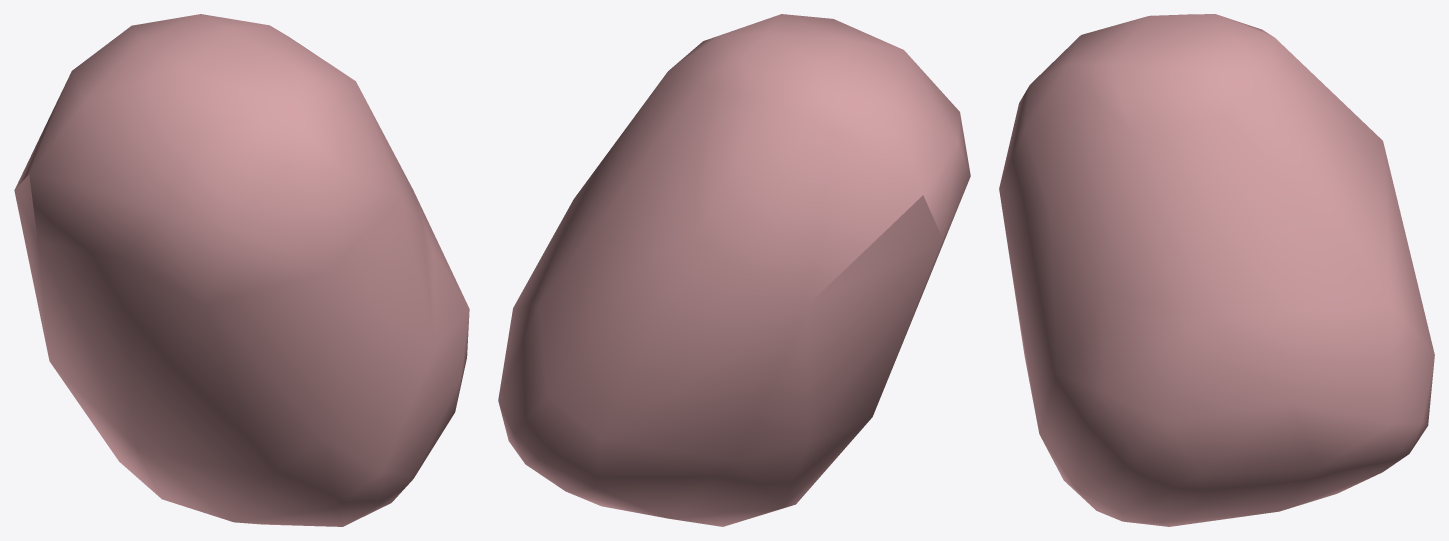
Rendered from fma16981_fj2625.glb.
3 views of the same model, side by side, from view 1: azimuth 30°, elevation 25°; view 2: azimuth 150°, elevation 25°; view 3: azimuth 270°, elevation 25° (orthographic). The views are drawn at different scales.
Parts seen in each view (by area): view 1: FMA16981_FJ2625; view 2: FMA16981_FJ2625; view 3: FMA16981_FJ2625.
Boxes of the visible parts, x1,y1,x2,y2 form: FMA16981_FJ2625: (14, 14, 469, 526); FMA16981_FJ2625: (498, 14, 970, 526); FMA16981_FJ2625: (999, 14, 1434, 526).
Bounding box in the file's own units: 0.0271 × 0.0316 × 0.0275.
